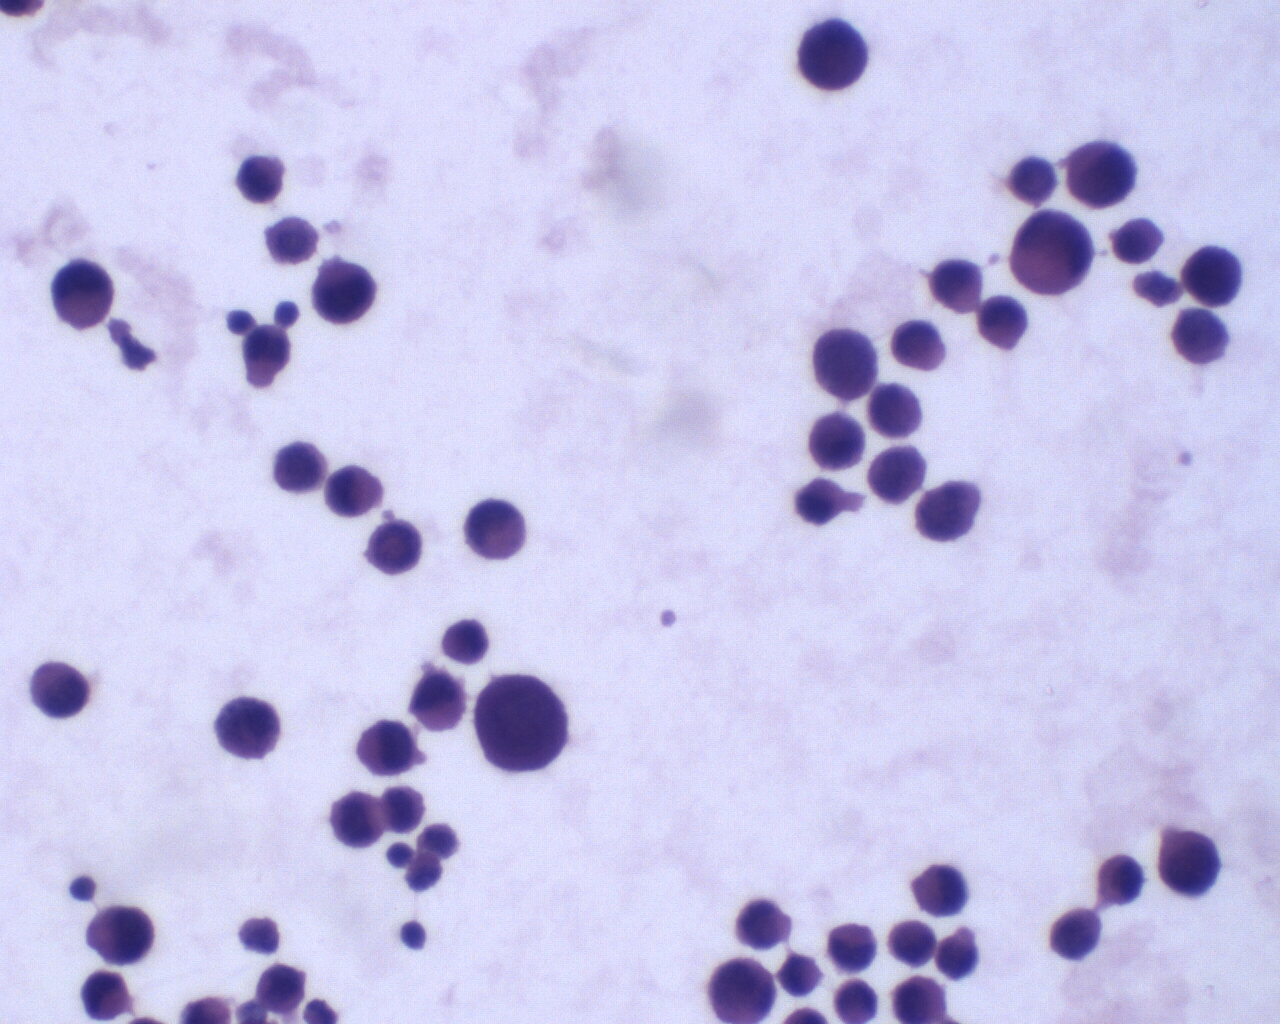ab: (473, 667, 574, 781), (1006, 207, 1095, 297), (911, 478, 996, 554), (1057, 137, 1143, 212), (795, 14, 875, 90), (809, 323, 884, 403), (85, 899, 163, 972), (1153, 828, 1224, 903), (214, 691, 285, 763), (308, 258, 381, 328), (23, 653, 92, 726), (706, 957, 779, 1024), (1164, 303, 1232, 371), (1183, 240, 1247, 311), (264, 429, 326, 499), (807, 411, 871, 475), (728, 895, 796, 954), (366, 516, 427, 579), (869, 443, 929, 508), (356, 715, 415, 779), (1050, 903, 1109, 965)
lymph: (394, 920, 437, 956)
